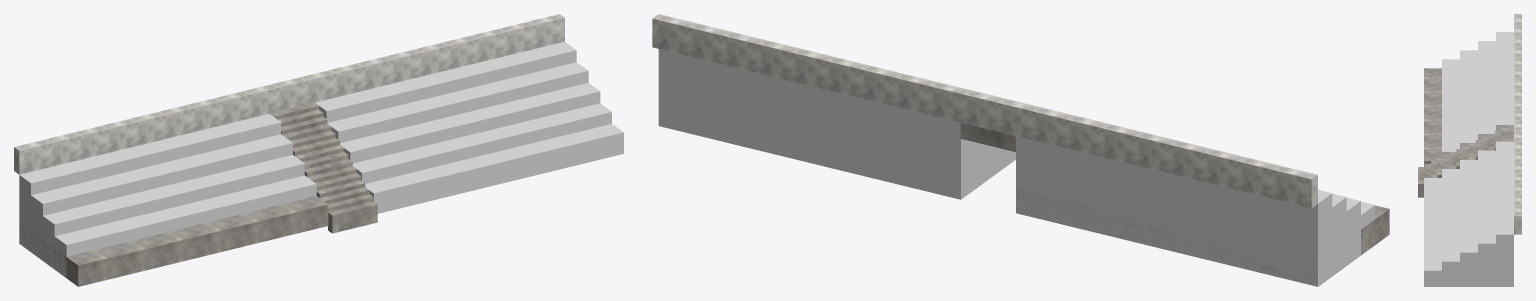
File: arena_stands.glb
3 renders of one model, left to right at view 1: azimuth 30°, elevation 25°; view 2: azimuth 150°, elevation 25°; view 3: azimuth 270°, elevation 25°, orthographic. The views are drawn at different scales.
Visible parts, largest first — view 1: Parapet, Tiers, Tier-convcolonly.005, Tier-convcolonly.001, Tier-convcolonly.002, Tier-convcolonly.004, Tier-convcolonly.003, AisleSteps, Tier-convcolonly.009, Tier-convcolonly.008, Tier-convcolonly.007, Tier-convcolonly.006; view 2: Parapet, Tier-convcolonly.003, Tier-convcolonly.001, Tier-convcolonly.008, Tier-convcolonly.004, Tier-convcolonly.002, Tier-convcolonly.007, Tier-convcolonly.005, Tier-convcolonly.006, Tier-convcolonly.009, Tiers, AisleSteps; view 3: Tier-convcolonly.005, Tier-convcolonly.007, Tier-convcolonly.006, Tier-convcolonly.008, Tier-convcolonly.009, Parapet, Tier-convcolonly.004, Tier-convcolonly.003, Tier-convcolonly.002, Tier-convcolonly.001, Tiers, AisleSteps.
Boxes of the visible parts, box(x1,y1,x2,y2) form: Parapet: box(14, 14, 564, 174); Tiers: box(19, 196, 328, 286); Tier-convcolonly.005: box(365, 124, 623, 213); Tier-convcolonly.001: box(19, 175, 316, 277); Tier-convcolonly.002: box(19, 155, 304, 265); Tier-convcolonly.004: box(19, 114, 281, 251); Tier-convcolonly.003: box(19, 134, 292, 254); AisleSteps: box(269, 102, 377, 233); Tier-convcolonly.009: box(315, 41, 576, 122); Tier-convcolonly.008: box(327, 62, 588, 143); Tier-convcolonly.007: box(340, 82, 600, 163); Tier-convcolonly.006: box(352, 103, 611, 183); Parapet: box(652, 14, 1317, 208); Tier-convcolonly.003: box(1016, 144, 1346, 286); Tier-convcolonly.001: box(1016, 173, 1375, 286); Tier-convcolonly.008: box(658, 57, 966, 192); Tier-convcolonly.004: box(1016, 136, 1332, 285); Tier-convcolonly.002: box(1016, 159, 1360, 286); Tier-convcolonly.007: box(658, 71, 1003, 198); Tier-convcolonly.005: box(658, 100, 1015, 199); Tier-convcolonly.006: box(658, 86, 962, 198); Tier-convcolonly.009: box(658, 49, 961, 190); Tiers: box(1016, 188, 1389, 284); AisleSteps: box(960, 122, 1015, 151); Tier-convcolonly.005: box(1424, 178, 1513, 286); Tier-convcolonly.007: box(1460, 160, 1513, 286); Tier-convcolonly.006: box(1442, 169, 1513, 286); Tier-convcolonly.008: box(1478, 150, 1513, 286); Tier-convcolonly.009: box(1496, 141, 1513, 285); Parapet: box(1514, 14, 1521, 234); Tier-convcolonly.004: box(1496, 32, 1513, 130); Tier-convcolonly.003: box(1478, 41, 1495, 139); Tier-convcolonly.002: box(1460, 50, 1477, 148); Tier-convcolonly.001: box(1442, 59, 1459, 157); Tiers: box(1424, 68, 1441, 166); AisleSteps: box(1418, 125, 1513, 197).
Size of what is drawn, in the model's own units: 24 by 4.1 by 5.2.
2 materials, 2 textured.
